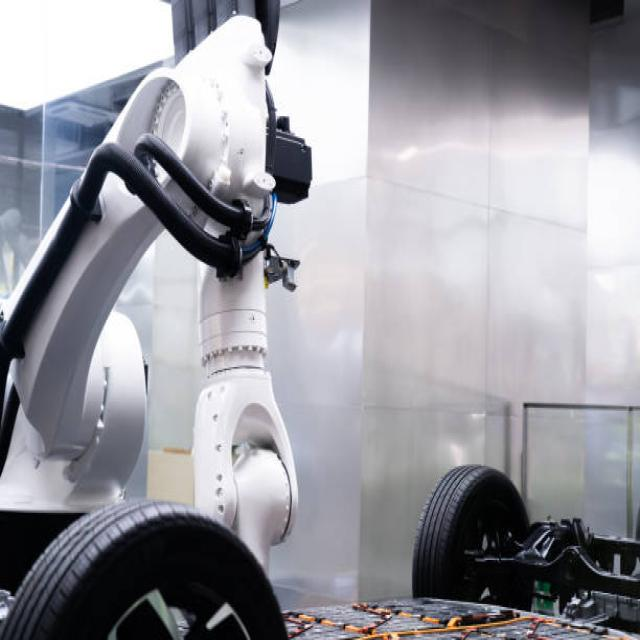Robotic-arm: (0, 3, 313, 559)
